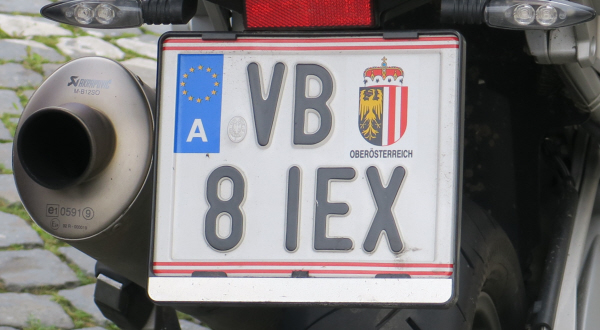license_plate: (145, 32, 461, 304)
